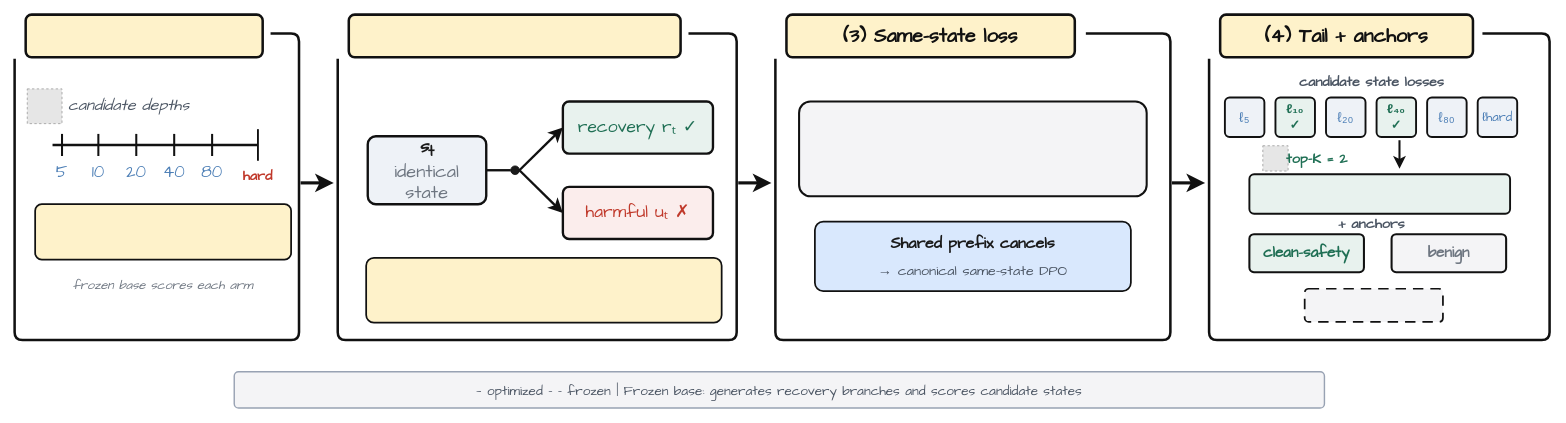
This 1566x423 diagram has some shape labels left out. Grey dashed boxes stand in for pictures. The centre of each missing label's shape, as x and y in pixels:
"(1) Reached states" belongs at pixel 144 35.
"(2) Matched same-state pair" belongs at pixel 514 35.
"Same state sₜ rₜ: frozen-base recovery uₜ: held-in harmful response" belongs at pixel 543 290.
"selected tail term ranked by detached loss" belongs at pixel 1379 193.
"Successive halving 11 positions · 66 paired evals" belongs at pixel 163 231.
"with frozen πref" belongs at pixel 1373 304.
"ℓₛₜₐₜₑ = −log σ(β[Aθ(sₜ,rₜ) − Aθ(sₜ,uₜ)])" belongs at pixel 972 148.
